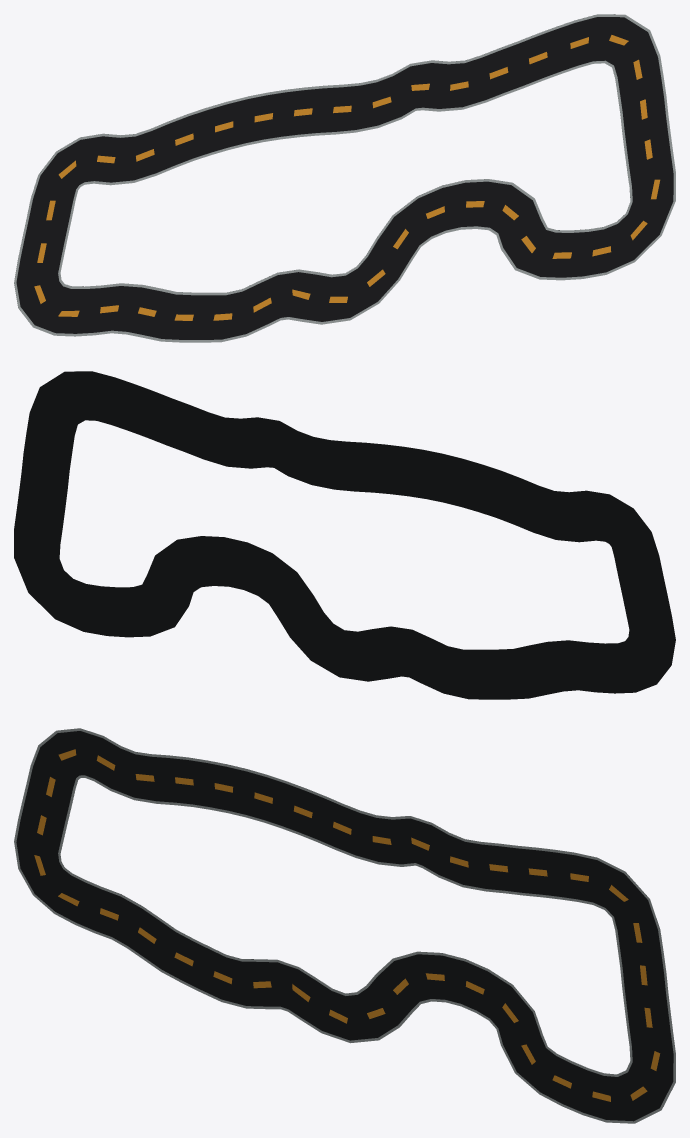
File: track.obj
3 views of the same model, one above another, from view 1: azimuth 30°, elevation 25°; view 2: azimuth 150°, elevation 25°; view 3: azimuth 330°, elevation 25° (orthographic).
Bounding box in the file's own units: 10.84 × 4.16 × 0.002.
3 materials, 3 textured.
